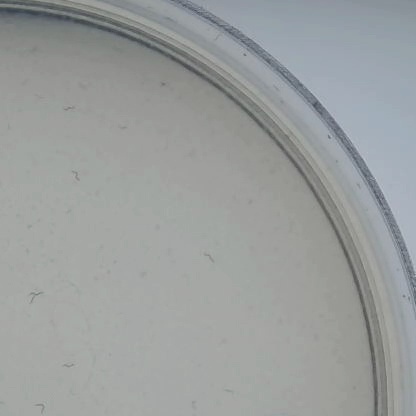worm: (201, 243, 221, 267), (23, 289, 44, 309), (180, 395, 200, 416), (65, 163, 80, 190), (68, 277, 91, 292), (58, 102, 80, 117), (217, 384, 241, 397), (32, 399, 49, 416), (114, 120, 132, 134), (59, 358, 79, 370), (0, 395, 10, 408)
